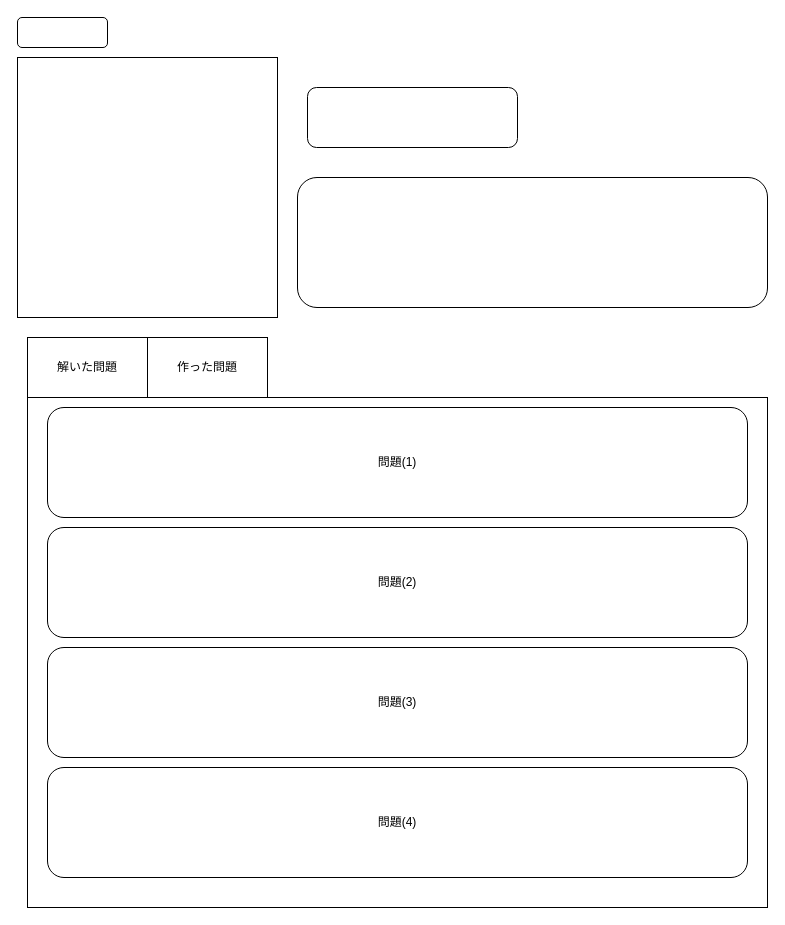
This 785x925 diagram has some shape labels left out. The shapes that lost their labels are listed below. From the top down, each one's box as (x1, y1, x2, y2) in pixels, then its label:
(16, 16, 108, 48): 戻る
(306, 86, 518, 148): 名前
(16, 56, 278, 318): 画像
(296, 176, 768, 308): 自己紹介
